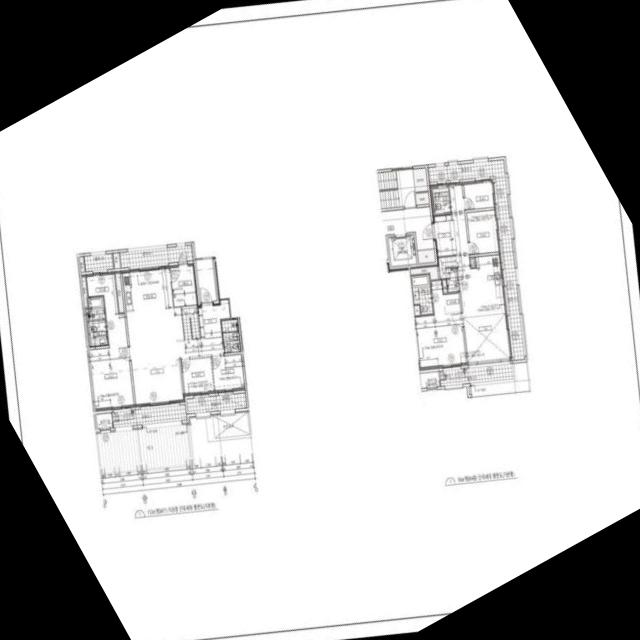background: (0, 0, 640, 640)
space_balconi: (427, 159, 524, 360), (112, 405, 186, 428), (119, 245, 193, 268), (439, 364, 513, 386), (187, 393, 246, 414), (84, 254, 113, 271)
space_bedroom: (89, 346, 133, 411), (415, 313, 465, 370), (466, 210, 500, 254), (181, 358, 214, 396), (211, 355, 244, 393), (463, 179, 495, 210)
space_dressroom: (86, 271, 127, 348), (431, 280, 460, 315)
space_elevator: (388, 235, 416, 266)
space_elevator_hall: (381, 207, 433, 250)
space_front: (197, 300, 230, 338), (432, 214, 456, 256)
space_kitchen: (122, 269, 183, 346), (470, 255, 506, 317)
space_living_room: (449, 182, 509, 362), (129, 337, 223, 407)
space_multipurpose_space: (170, 263, 197, 307)
space_other: (195, 258, 216, 302), (410, 265, 438, 280), (413, 168, 427, 192), (115, 271, 123, 312), (447, 267, 458, 292), (417, 249, 435, 263), (81, 275, 87, 307), (415, 192, 429, 205), (113, 253, 120, 269), (79, 257, 84, 272), (442, 280, 447, 293), (414, 306, 420, 316), (470, 257, 475, 267)
space_outdoor_room: (420, 371, 439, 388), (96, 413, 112, 429)
space_staircase: (377, 169, 416, 209), (181, 306, 199, 340), (437, 256, 457, 279)
space_toilet: (85, 297, 107, 347), (411, 275, 432, 314), (221, 319, 240, 353), (432, 187, 450, 214)
